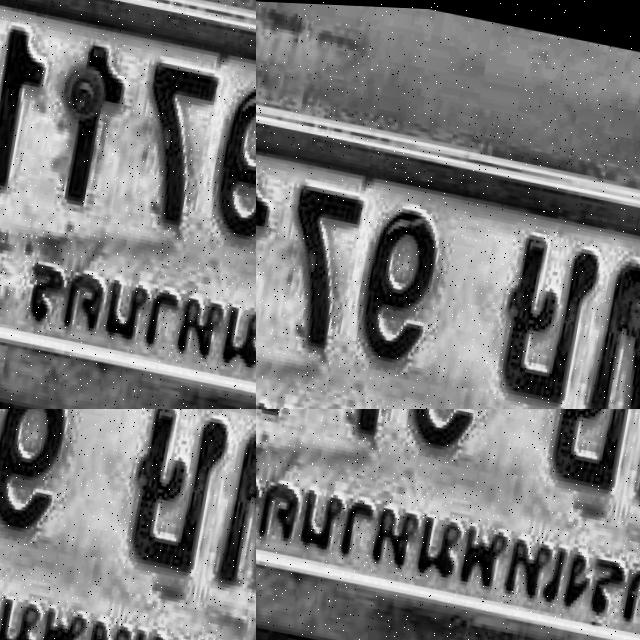license-plate: (256, 0, 640, 409), (256, 409, 640, 640), (0, 409, 256, 462)
